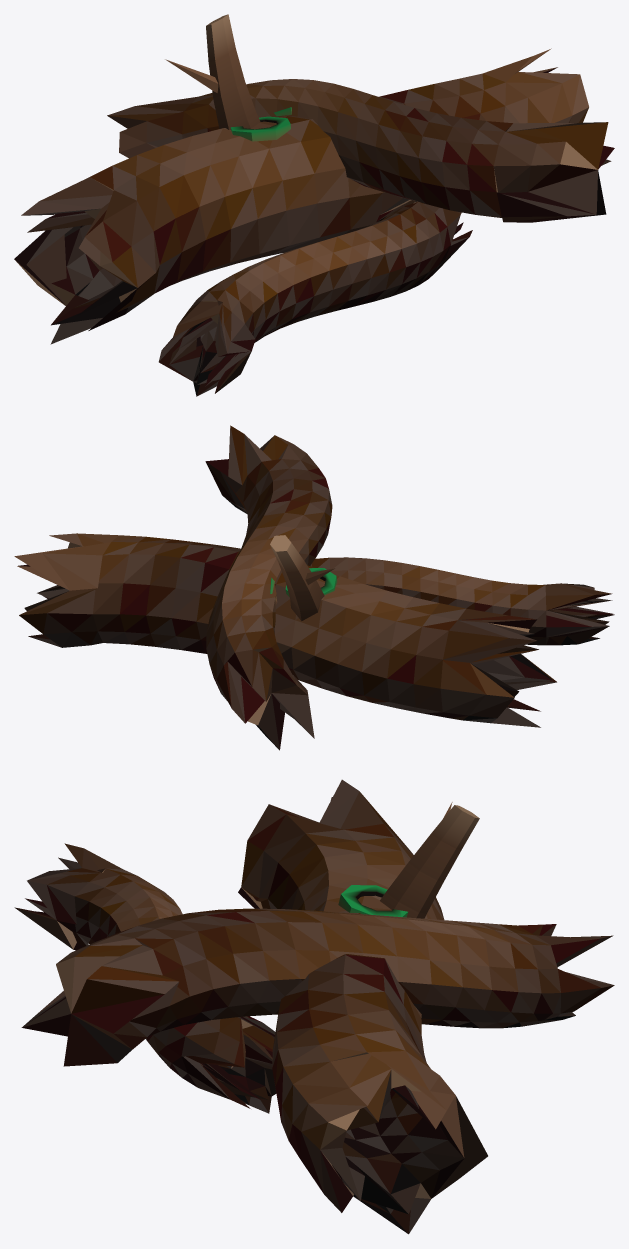
The model's file is pohon_tumbang_logjam_rainforest_813949.glb.
3 renders of one model, top to bottom at view 1: azimuth 30°, elevation 25°; view 2: azimuth 150°, elevation 25°; view 3: azimuth 270°, elevation 25°, orthographic. The views are drawn at different scales.
Visible parts, largest first — view 1: Tumpukan_Kayu_Hanyut; view 2: Tumpukan_Kayu_Hanyut; view 3: Tumpukan_Kayu_Hanyut.
Boxes of the visible parts, box(x1,y1,x2,y2) form: Tumpukan_Kayu_Hanyut: box(14, 14, 614, 396); Tumpukan_Kayu_Hanyut: box(14, 425, 614, 750); Tumpukan_Kayu_Hanyut: box(14, 779, 614, 1234).
Bounding box in the file's own units: 4.64 × 1.65 × 3.56.
